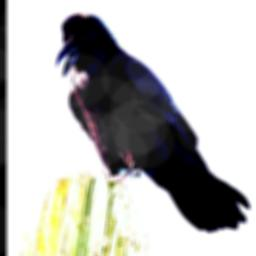Crow: (49, 11, 256, 236)
